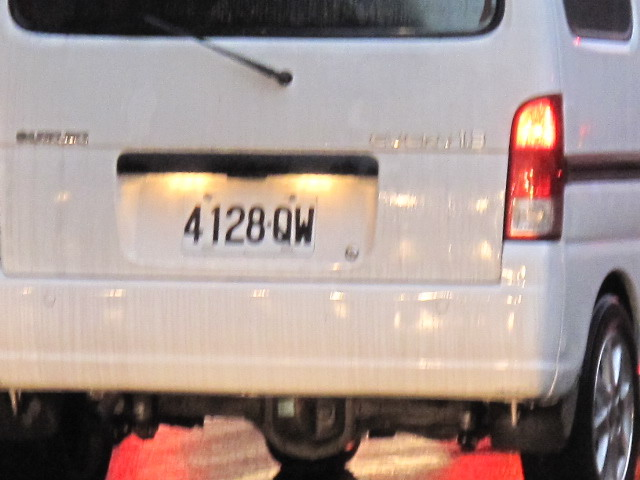plate: (180, 189, 320, 262)
